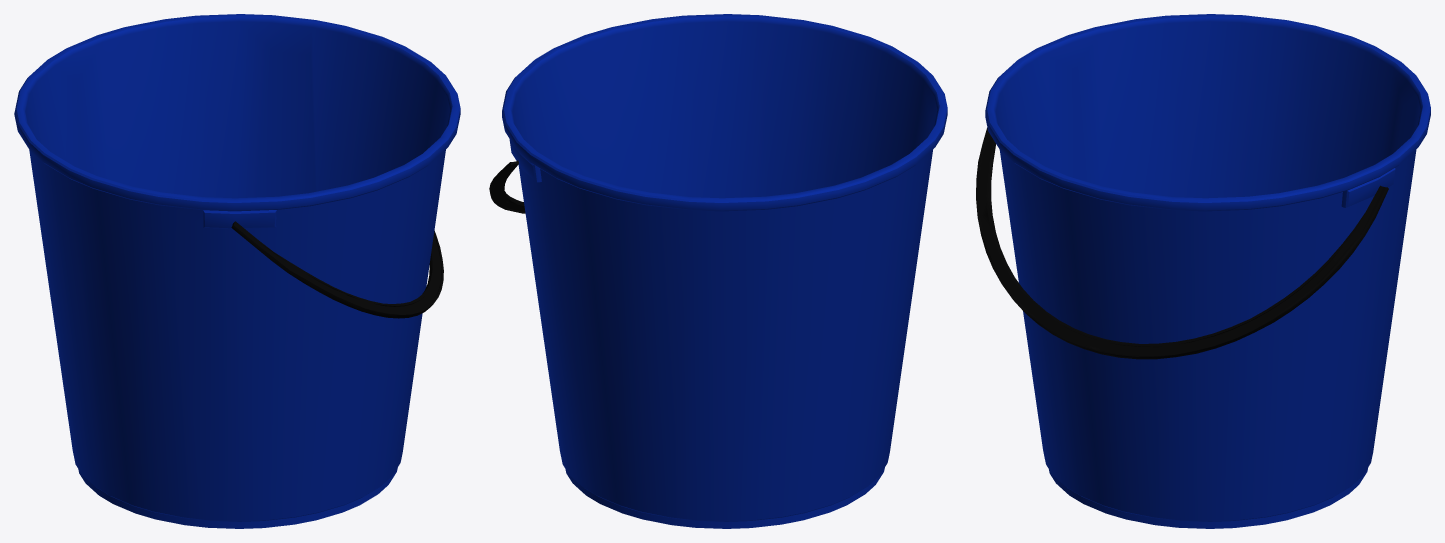
The model's file is pailReduced.fbx.
The picture shows the model from 3 angles, left to right: view 1: azimuth 30°, elevation 25°; view 2: azimuth 150°, elevation 25°; view 3: azimuth 270°, elevation 25°; orthographic projection.
Parts seen in each view (by area): view 1: pail; view 2: pail; view 3: pail.
Part boxes in pixels (x1=…): pail: x1=14, y1=14, x2=460, y2=528; pail: x1=489, y1=14, x2=947, y2=528; pail: x1=976, y1=14, x2=1430, y2=528.
Size of the model in its own units: 228 by 199 by 232.
